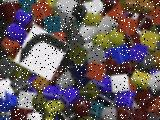Left: (14, 24, 70, 82)
